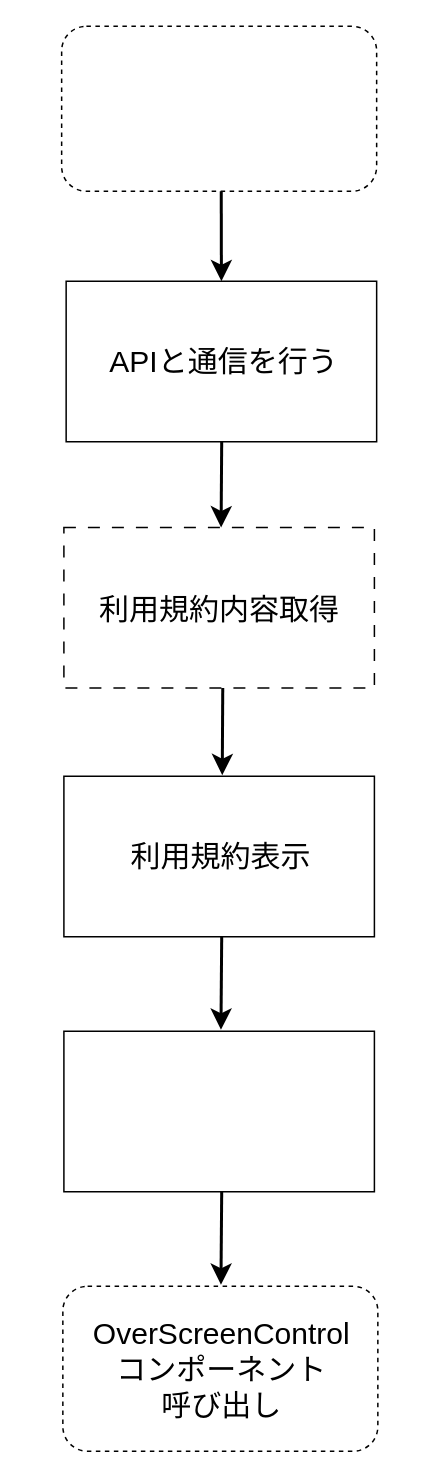
Image size: 443x1478. Some labels were removed from this diagram. Here are the shapes that lost their labels. From the top down, the box of each, then its label:
(60, 25, 377, 191): RuleScreen オーバーレイ呼び出し
(62, 1030, 374, 1192): 「閉じる」を選択
